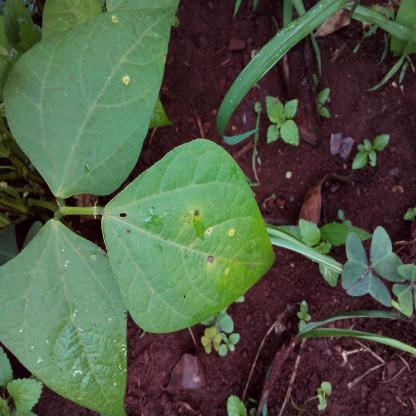Beans_Rust: (0, 0, 179, 182), (111, 135, 269, 328), (0, 223, 131, 416)
